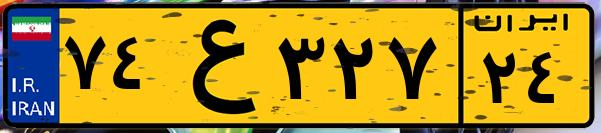2: (330, 28, 385, 110), (475, 38, 525, 113)
3: (270, 28, 330, 110)
4: (525, 38, 570, 115), (110, 28, 158, 98)
7: (385, 28, 445, 110), (57, 26, 110, 100)
ع: (158, 12, 270, 120)
